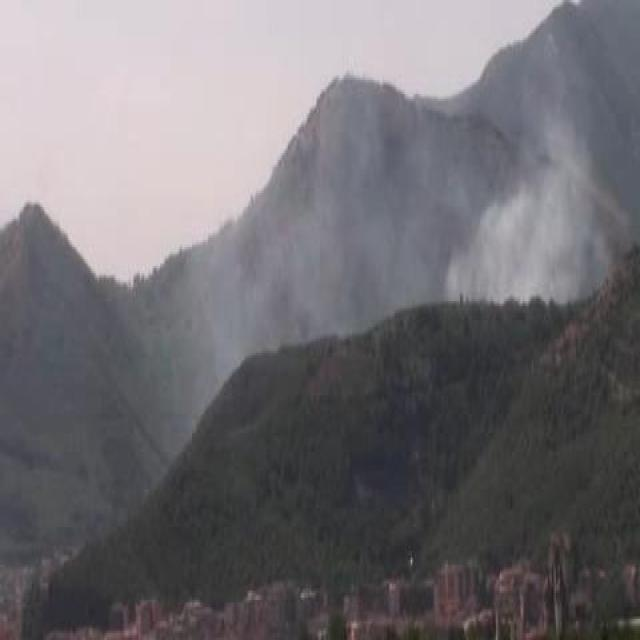Smoke: (321, 107, 595, 305)
